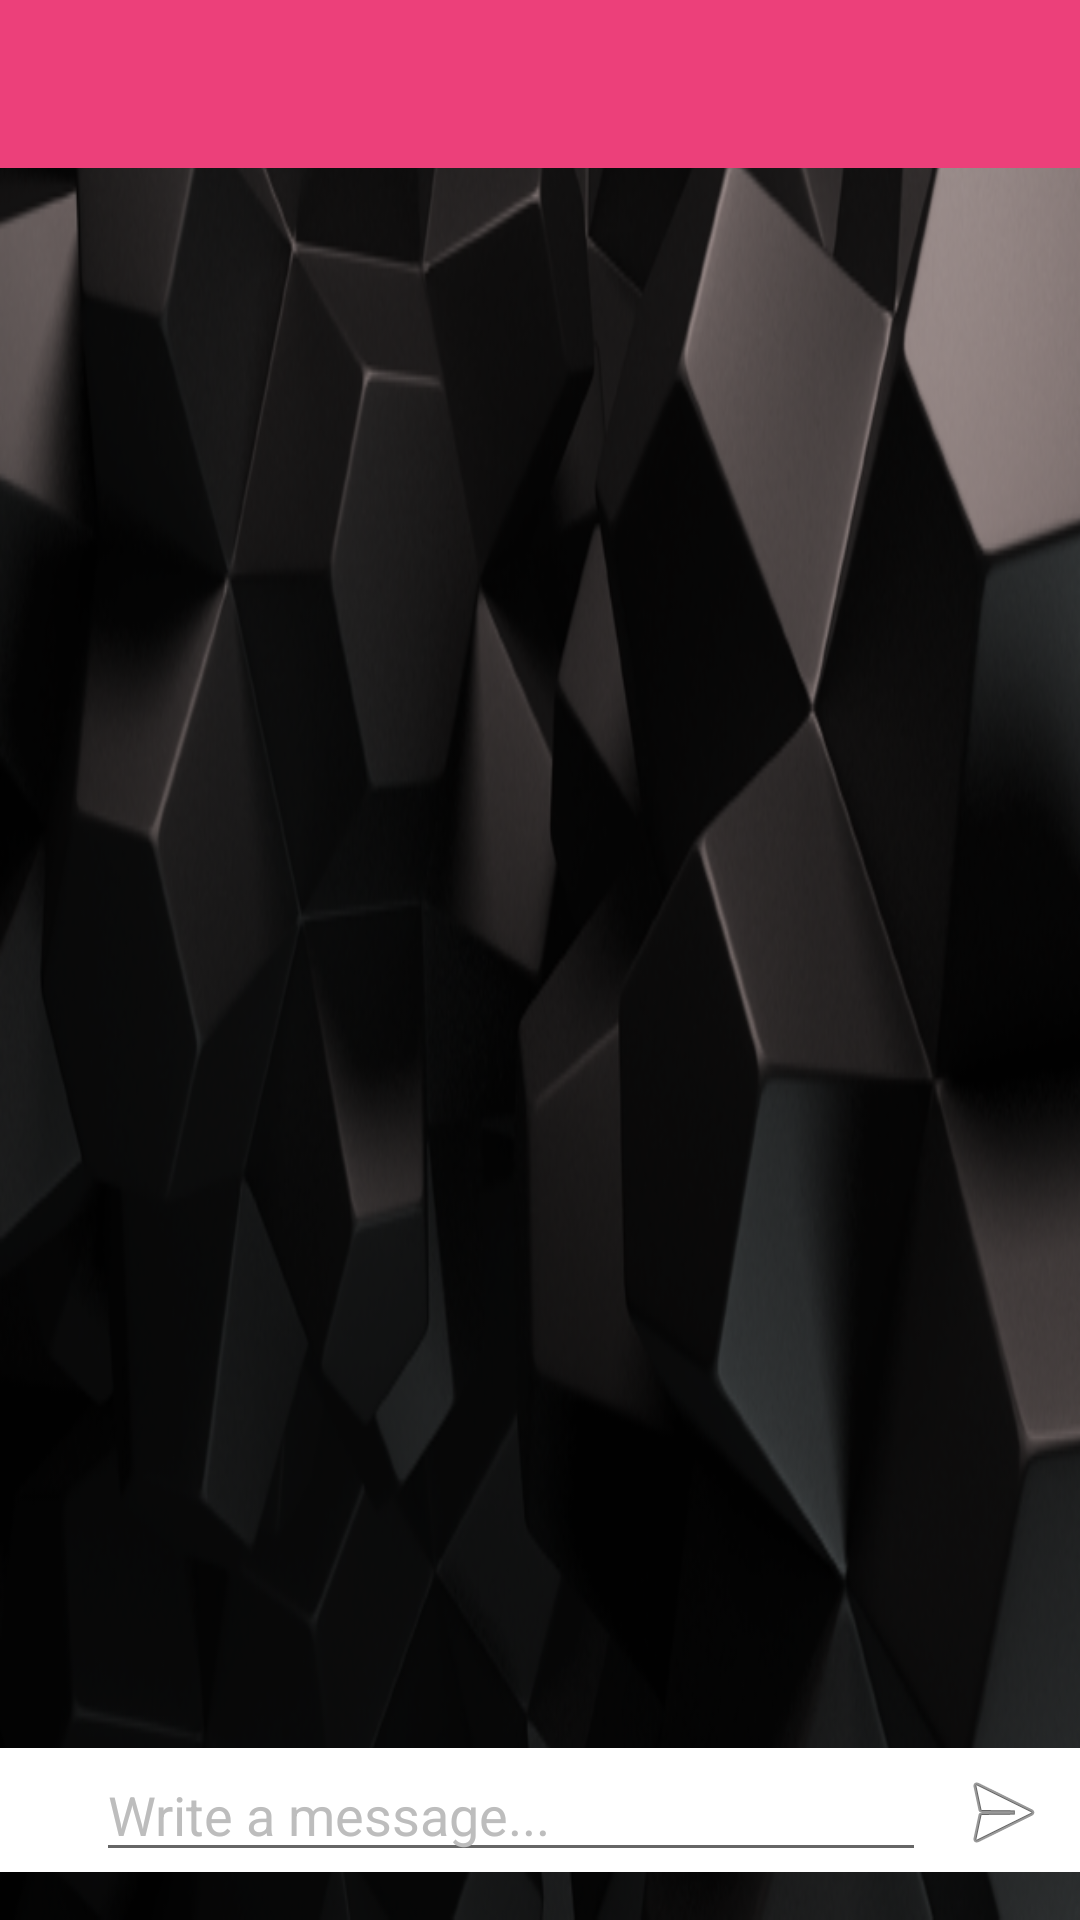

Where icons sit on this 1080px×1920px app screen, as (x1, y1, x2, y2):
send: (973, 1782, 1035, 1843)
